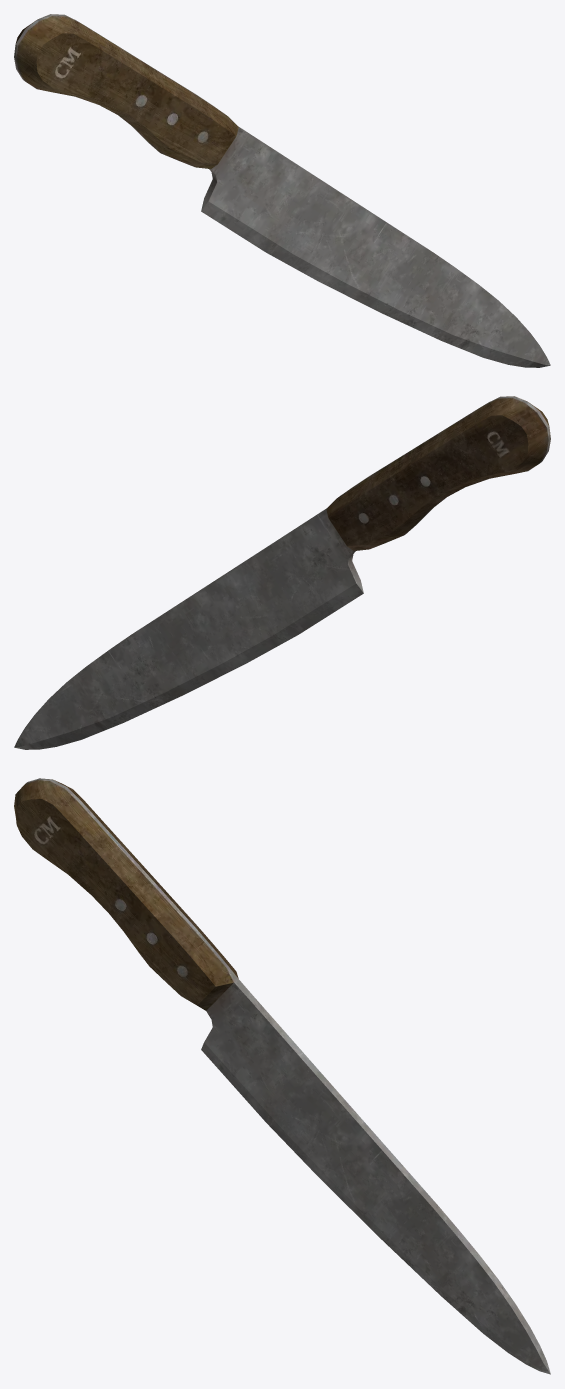
The model's file is w_cuchillo.glb.
The picture shows the model from 3 angles, top to bottom: view 1: azimuth 30°, elevation 25°; view 2: azimuth 150°, elevation 25°; view 3: azimuth 330°, elevation 25°; orthographic projection.
Visible parts, largest first — view 1: Line002__0; view 2: Line002__0; view 3: Line002__0.
Part boxes in pixels (x1,y1,x2,y2): Line002__0: (14,14,550,367); Line002__0: (14,396,550,749); Line002__0: (14,778,550,1374).
Bounding box in the file's own units: 0.3 × 0.2528 × 0.02.
Materials: 1 (1 with a texture image).
